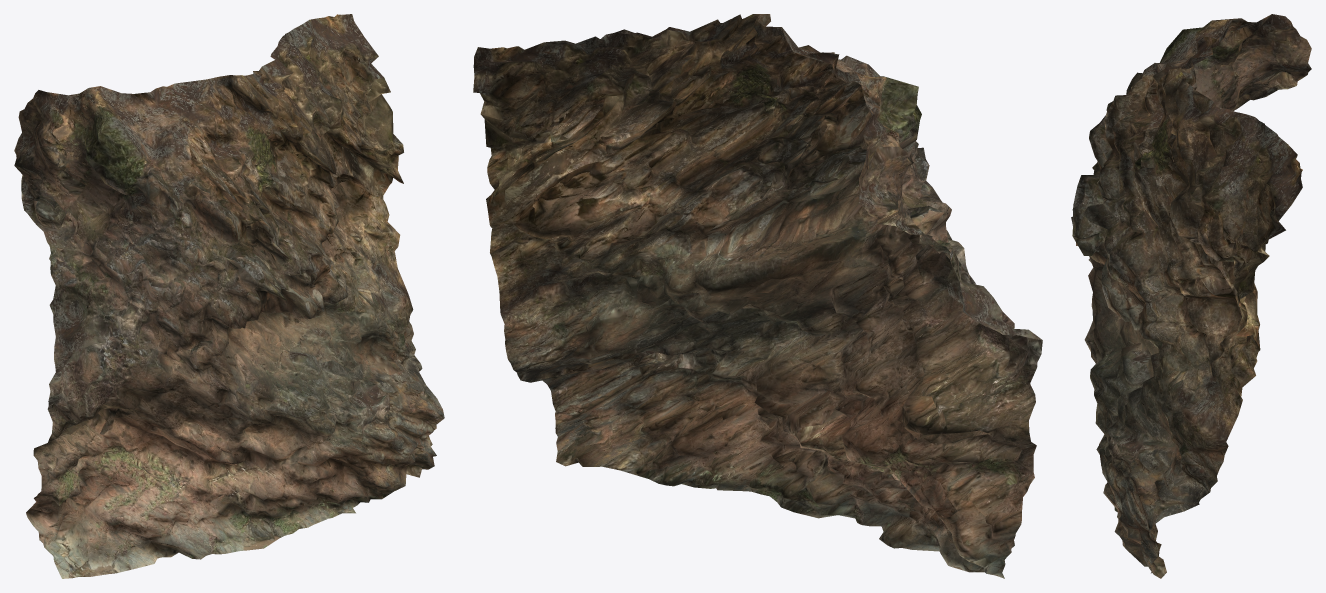
The model's file is cliff_mountainside_01.glb.
3 renders of one model, left to right at view 1: azimuth 30°, elevation 25°; view 2: azimuth 150°, elevation 25°; view 3: azimuth 270°, elevation 25°, orthographic. The views are drawn at different scales.
Parts seen in each view (by area): view 1: cliff_mountainside_01; view 2: cliff_mountainside_01; view 3: cliff_mountainside_01.
Part boxes in pixels (x1=…): cliff_mountainside_01: x1=14, y1=14, x2=444, y2=578; cliff_mountainside_01: x1=473, y1=14, x2=1042, y2=578; cliff_mountainside_01: x1=1071, y1=14, x2=1311, y2=578.
Size of the model in its own units: 10.2 by 10.51 by 5.23.
1 material, 1 textured.
